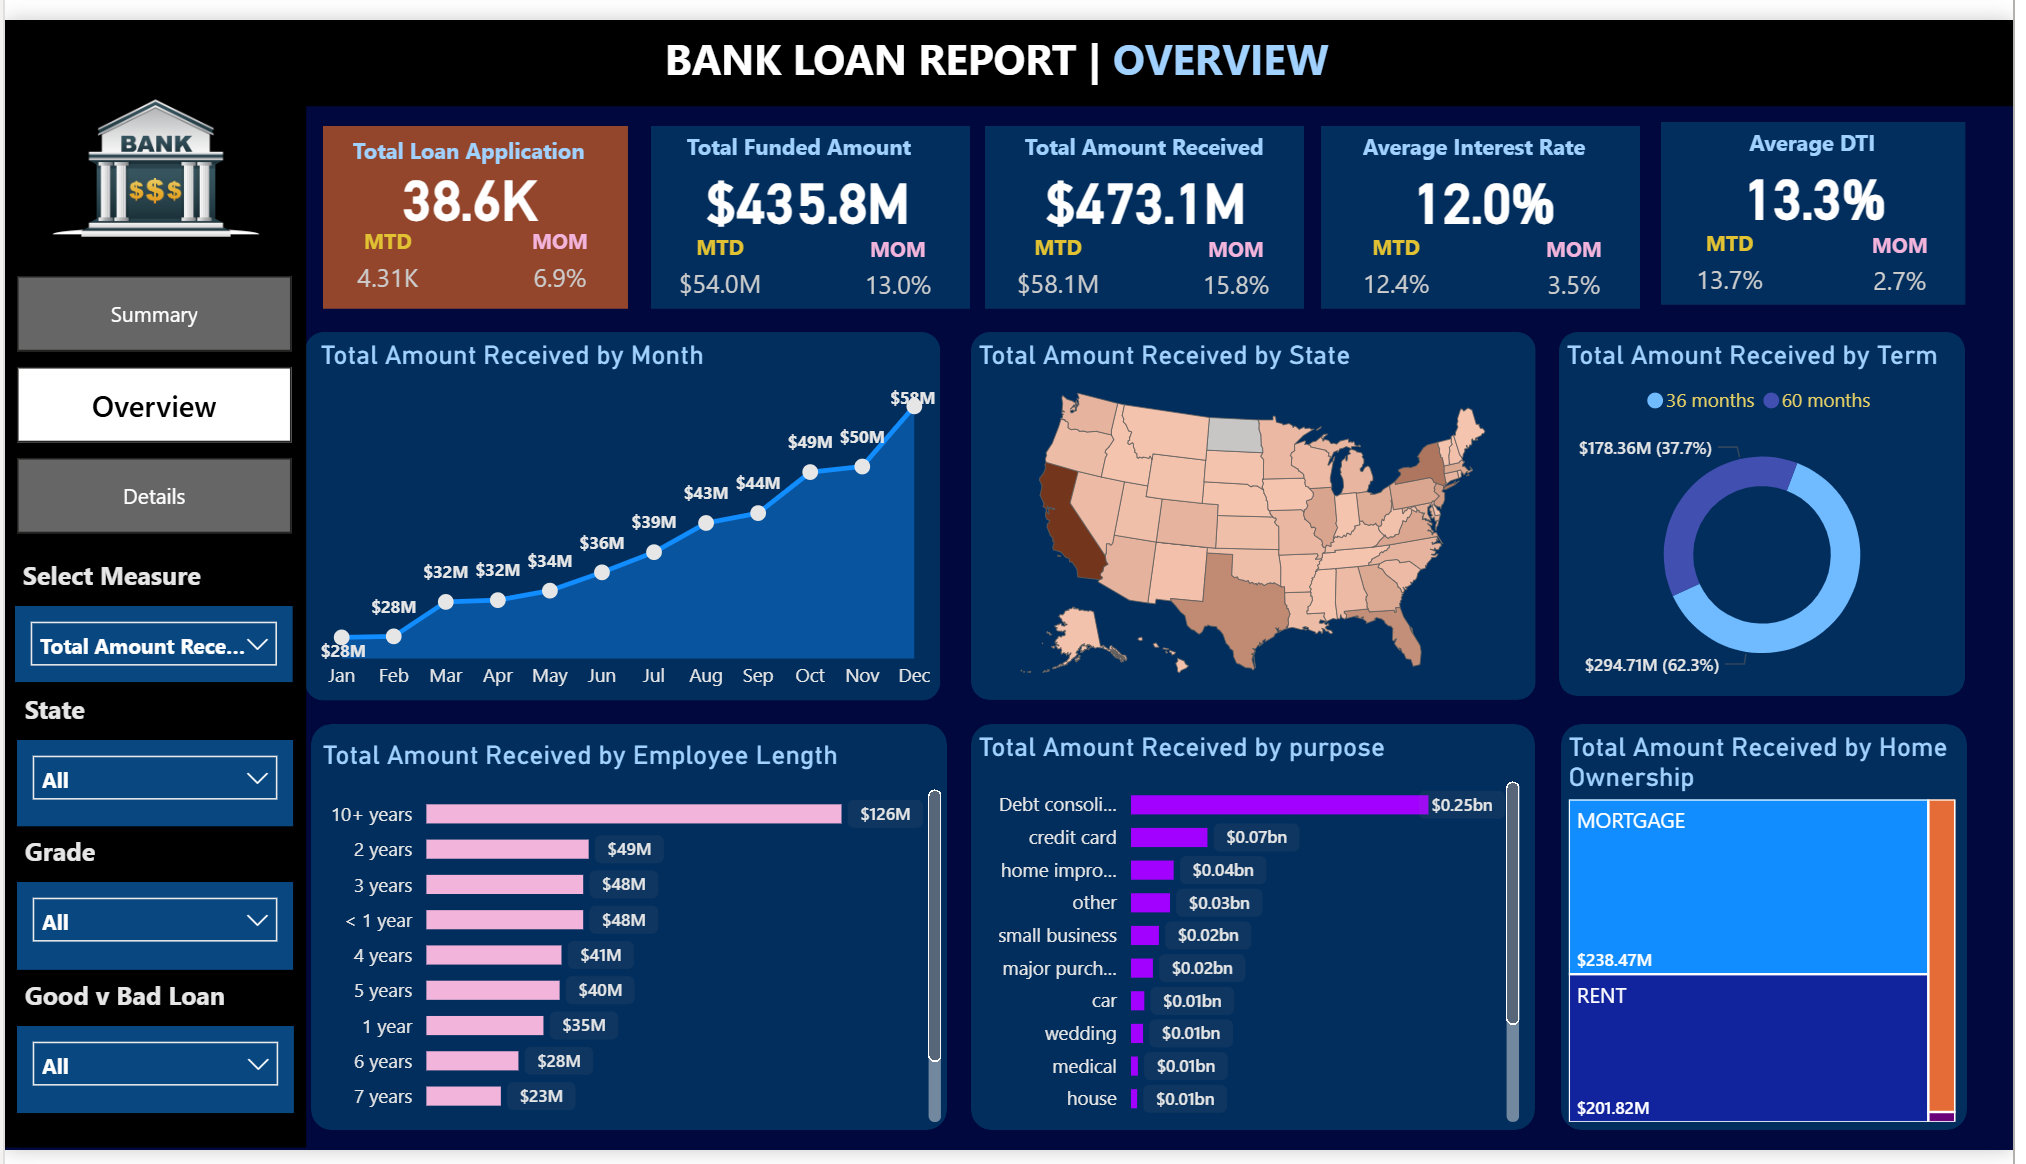

The dashboard page shown, as its layout file describes it:
{"tool":"powerbi","page":{"name":"Overview","canvas":[1280,720],"ordinal":1},"visuals":[{"type":"shape","box":[1054.6,66.1,194.2,116.6],"z":0,"group":"g5"},{"type":"shape","box":[202.1,67.3,194.4,116.6],"z":0,"group":"g1"},{"type":"shape","box":[411.3,67.3,203.4,116.6],"z":0,"group":"g2"},{"type":"shape","box":[839.9,67.3,203.4,116.6],"z":0,"group":"g4"},{"type":"shape","box":[624.4,67.6,203.4,116.6],"z":0,"group":"g3"},{"type":"shape","box":[191.8,198.5,405,235],"z":0},{"type":"shape","box":[0,0,1280,55],"z":1000},{"type":"card","fields":{"Values":["bank_loan_data.Total Loan Applications"]},"box":[162.6,81.1,266.2,61.3],"z":1000,"group":"g1"},{"type":"card","fields":{"Values":["bank_loan_data.avg dti"]},"box":[1025.8,82.1,254.2,59.8],"z":1000,"group":"g5"},{"type":"card","fields":{"Values":["bank_loan_data.Total Funded Amount"]},"box":[378.4,83.6,266.2,59.8],"z":1000,"group":"g2"},{"type":"card","fields":{"Values":["bank_loan_data.Total Amount Received"]},"box":[594.2,83.6,266.2,59.8],"z":1000,"group":"g3"},{"type":"card","fields":{"Values":["bank_loan_data.avg interest rate"]},"box":[810,83.6,266.2,59.8],"z":1000,"group":"g4"},{"type":"shape","box":[0,55.3,192,663.9],"z":2000},{"type":"textbox","box":[1074.9,64.3,161.4,48.1],"z":2000,"group":"g5"},{"type":"textbox","box":[429.8,65.8,169,48.1],"z":2000,"group":"g2"},{"type":"textbox","box":[645.6,65.8,169,48.1],"z":2000,"group":"g3"},{"type":"textbox","box":[861.4,65.8,169,48.1],"z":2000,"group":"g4"},{"type":"textbox","box":[215.5,68.8,177.9,52.3],"z":2000,"group":"g1"},{"type":"textbox","box":[415.7,1.5,448.6,53.8],"z":3000},{"type":"card","title":"MTD","fields":{"Values":["bank_loan_data.MTD Loan Applications"]},"box":[214,131.6,59.8,52.3],"z":3000,"group":"g1"},{"type":"card","title":"MTD","fields":{"Values":["bank_loan_data.MTD avg dti"]},"box":[1065.8,133.1,67.1,52.3],"z":3000,"group":"g5"},{"type":"card","title":"MTD","fields":{"Values":["bank_loan_data.MTD Funded Amount"]},"box":[420.3,134.6,70.3,52.3],"z":3000,"group":"g2"},{"type":"card","title":"MTD","fields":{"Values":["bank_loan_data.MTD Total Amount Received"]},"box":[636.1,134.6,70.3,52.3],"z":3000,"group":"g3"},{"type":"card","title":"MTD","fields":{"Values":["bank_loan_data.MTD avg interest rate"]},"box":[851.9,134.6,70.3,52.3],"z":3000,"group":"g4"},{"type":"group","id":"g1","title":"Group 1","box":[162.6,67.3,266.2,116.6],"z":4000},{"type":"card","title":"MOM","fields":{"Values":["bank_loan_data.MOM Loan Applications"]},"box":[323.2,131.6,59.8,52.3],"z":4000,"group":"g1"},{"type":"card","title":"MOM","fields":{"Values":["bank_loan_data.MOM avg dti"]},"box":[1178.6,134.6,57.1,50.8],"z":4000,"group":"g5"},{"type":"card","title":"MOM","fields":{"Values":["bank_loan_data.MOM Funded Amount"]},"box":[538.4,136.1,59.8,50.8],"z":4000,"group":"g2"},{"type":"card","title":"MOM","fields":{"Values":["bank_loan_data.MOM received amount"]},"box":[754.2,136.1,59.8,50.8],"z":4000,"group":"g3"},{"type":"card","title":"MOM","fields":{"Values":["bank_loan_data.MOM avg interest rate"]},"box":[970,136.1,59.8,50.8],"z":4000,"group":"g4"},{"type":"group","id":"g2","title":"Group 1","box":[378.4,65.8,266.2,121.1],"z":5000},{"type":"group","id":"g3","title":"Group 1","box":[594.2,65.8,266.2,121.1],"z":6000},{"type":"group","id":"g4","title":"Group 1","box":[810,65.8,266.2,121.1],"z":7000},{"type":"group","id":"g5","title":"Group 1","box":[1025.8,64.3,254.2,121.1],"z":8000},{"type":"slicer","fields":{"Values":["bank_loan_data.address_state"]},"box":[7.6,459.5,175.9,54.8],"z":9000},{"type":"textbox","box":[7.6,423.8,88,38.2],"z":10000},{"type":"slicer","fields":{"Values":["bank_loan_data.grade"]},"box":[7.6,550,175.9,56.1],"z":11000},{"type":"textbox","box":[7.6,514.3,71.4,38.2],"z":12000},{"type":"slicer","fields":{"Values":["bank_loan_data.Good vs Bad Loan"]},"box":[7.5,641.8,176.4,55.3],"z":13000},{"type":"textbox","box":[7.6,606.1,155.5,35.7],"z":14000},{"type":"areaChart","fields":{"Y":["bank_loan_data.Total Amount Received"],"Category":["Date Table.Month"]},"box":[196.3,204,401.6,232],"z":15000},{"type":"slicer","fields":{"Values":["Select Measure.Select Measure"]},"box":[6.4,373.5,177.2,48.4],"z":16000},{"type":"textbox","box":[6.4,338.4,133.9,37],"z":17000},{"type":"shape","box":[615.8,198.9,360,234.6],"z":18000},{"type":"shapeMap","fields":{"Value":["bank_loan_data.Total Amount Received"],"Category":["bank_loan_data.address_state"]},"box":[615.8,204,359.5,226.9],"z":19000},{"type":"shape","box":[990.6,198.9,258.8,232],"z":20000},{"type":"donutChart","fields":{"Y":["bank_loan_data.Total Amount Received"],"Category":["bank_loan_data.term"]},"box":[990.6,204,258.8,226.9],"z":21000},{"type":"shape","box":[195.1,448.8,405.4,258.8],"z":22000},{"type":"barChart","fields":{"Y":["bank_loan_data.Total Amount Received"],"Category":["bank_loan_data.emp_length"]},"box":[198,459,404.1,248.6],"z":23000},{"type":"shape","box":[615.8,448.8,359.5,258.8],"z":24000},{"type":"barChart","fields":{"Y":["bank_loan_data.Total Amount Received"],"Category":["bank_loan_data.purpose"]},"box":[615.8,453.9,354.4,253.7],"z":25000},{"type":"shape","box":[991.9,448.8,258.8,258.8],"z":26000},{"type":"treemap","fields":{"Values":["bank_loan_data.Total Amount Received"],"Group":["bank_loan_data.home_ownership"]},"box":[991.9,453.9,256.3,253.7],"z":27000},{"type":"pageNavigator","box":[7.6,163.2,175.9,164.5],"z":28000},{"type":"image","box":[25.5,35.7,141.5,117.3],"z":29000}]}

Visuals, with their boxes in screenshot pixels (x1, y1, x2, y2), scaled from the page's 1280x720 canvas onto the 2026x1164 screenshot:
shape: 1669 107 1977 295
shape: 320 109 628 297
shape: 651 109 973 297
shape: 1329 109 1651 297
shape: 988 109 1310 298
shape: 304 321 945 701
shape: 0 0 2025 89
card - bank_loan_data.Total Loan Applications: 257 131 679 230
card - bank_loan_data.avg dti: 1624 133 2025 229
card - bank_loan_data.Total Funded Amount: 599 135 1020 232
card - bank_loan_data.Total Amount Received: 941 135 1362 232
card - bank_loan_data.avg interest rate: 1282 135 1703 232
shape: 0 89 304 1163
textbox: 1701 104 1957 182
textbox: 680 106 948 184
textbox: 1022 106 1289 184
textbox: 1363 106 1631 184
textbox: 341 111 623 196
textbox: 658 2 1368 89
"MTD" card: 339 213 433 297
"MTD" card: 1687 215 1793 300
"MTD" card: 665 218 777 302
"MTD" card: 1007 218 1118 302
"MTD" card: 1348 218 1460 302
"Group 1" group: 257 109 679 297
"MOM" card: 512 213 606 297
"MOM" card: 1866 218 1956 300
"MOM" card: 852 220 947 302
"MOM" card: 1194 220 1288 302
"MOM" card: 1535 220 1630 302
"Group 1" group: 599 106 1020 302
"Group 1" group: 941 106 1362 302
"Group 1" group: 1282 106 1703 302
"Group 1" group: 1624 104 2025 300
slicer - bank_loan_data.address_state: 12 743 290 831
textbox: 12 685 151 747
slicer - bank_loan_data.grade: 12 889 290 980
textbox: 12 831 125 893
slicer - bank_loan_data.Good vs Bad Loan: 12 1038 291 1127
textbox: 12 980 258 1038
areaChart - bank_loan_data.Total Amount Received x Date Table.Month: 311 330 946 705
slicer - Select Measure.Select Measure: 10 604 291 682
textbox: 10 547 222 607
shape: 975 322 1545 701
shapeMap - bank_loan_data.Total Amount Received x bank_loan_data.address_state: 975 330 1544 697
shape: 1568 322 1978 697
donutChart - bank_loan_data.Total Amount Received x bank_loan_data.term: 1568 330 1978 697
shape: 309 726 950 1144
barChart - bank_loan_data.Total Amount Received x bank_loan_data.emp_length: 313 742 953 1144
shape: 975 726 1544 1144
barChart - bank_loan_data.Total Amount Received x bank_loan_data.purpose: 975 734 1536 1144
shape: 1570 726 1980 1144
treemap - bank_loan_data.Total Amount Received x bank_loan_data.home_ownership: 1570 734 1976 1144
pageNavigator: 12 264 290 530
image: 40 58 264 247
